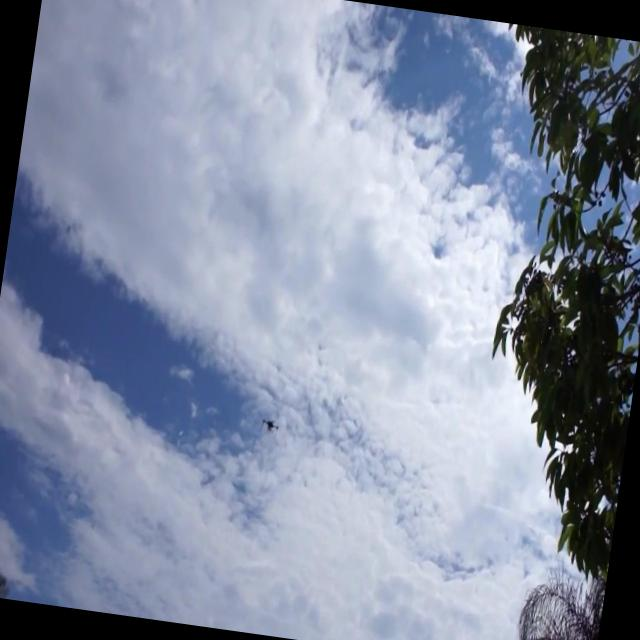drone: (259, 415, 281, 435)
